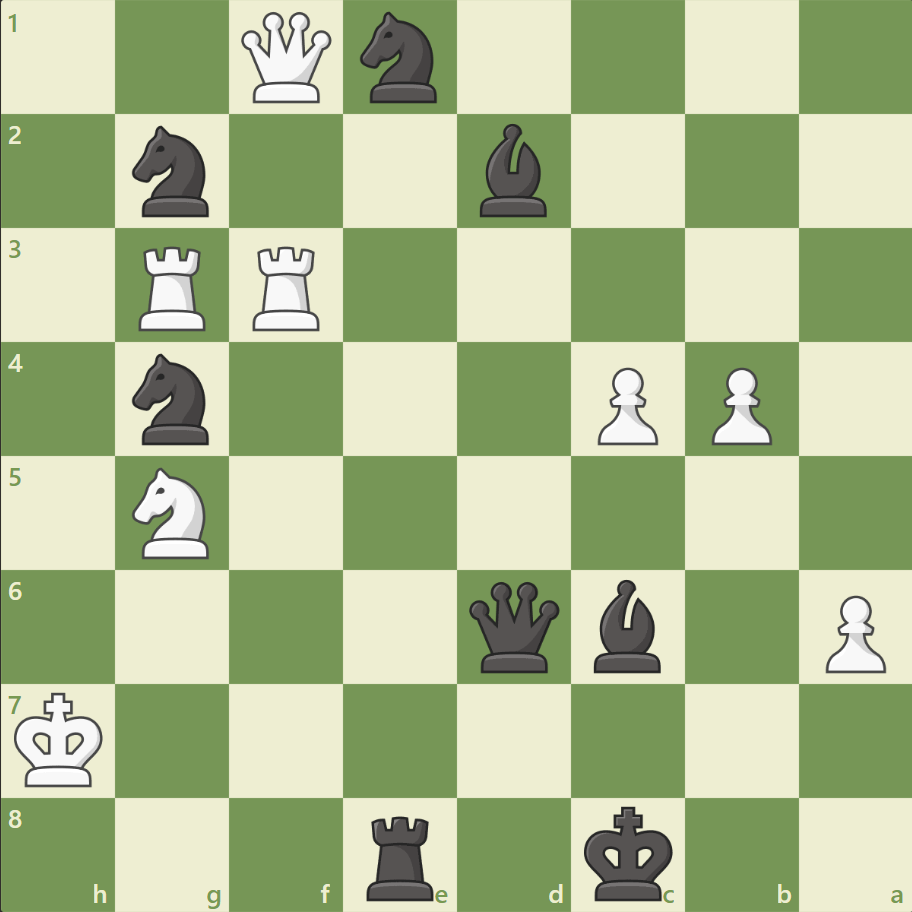K: (11, 685, 111, 793)
N: (124, 461, 222, 564)
P: (701, 359, 776, 450), (815, 586, 889, 677), (588, 359, 662, 450)
Q: (237, 9, 336, 108)
R: (246, 239, 329, 336), (133, 239, 215, 336)
b: (585, 574, 669, 676), (471, 120, 555, 222)
k: (579, 798, 679, 906)
n: (351, 7, 449, 110), (124, 348, 222, 450), (124, 121, 222, 223)
q: (464, 576, 563, 676)
r: (360, 806, 442, 904)
